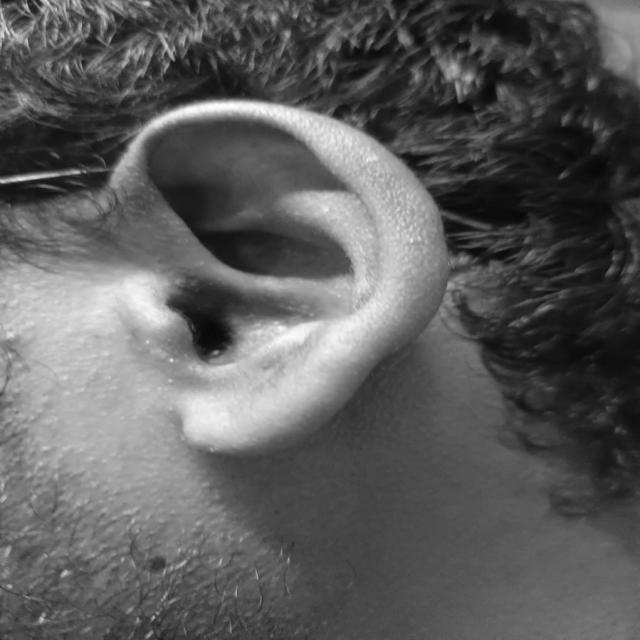ear: (110, 101, 448, 455)
